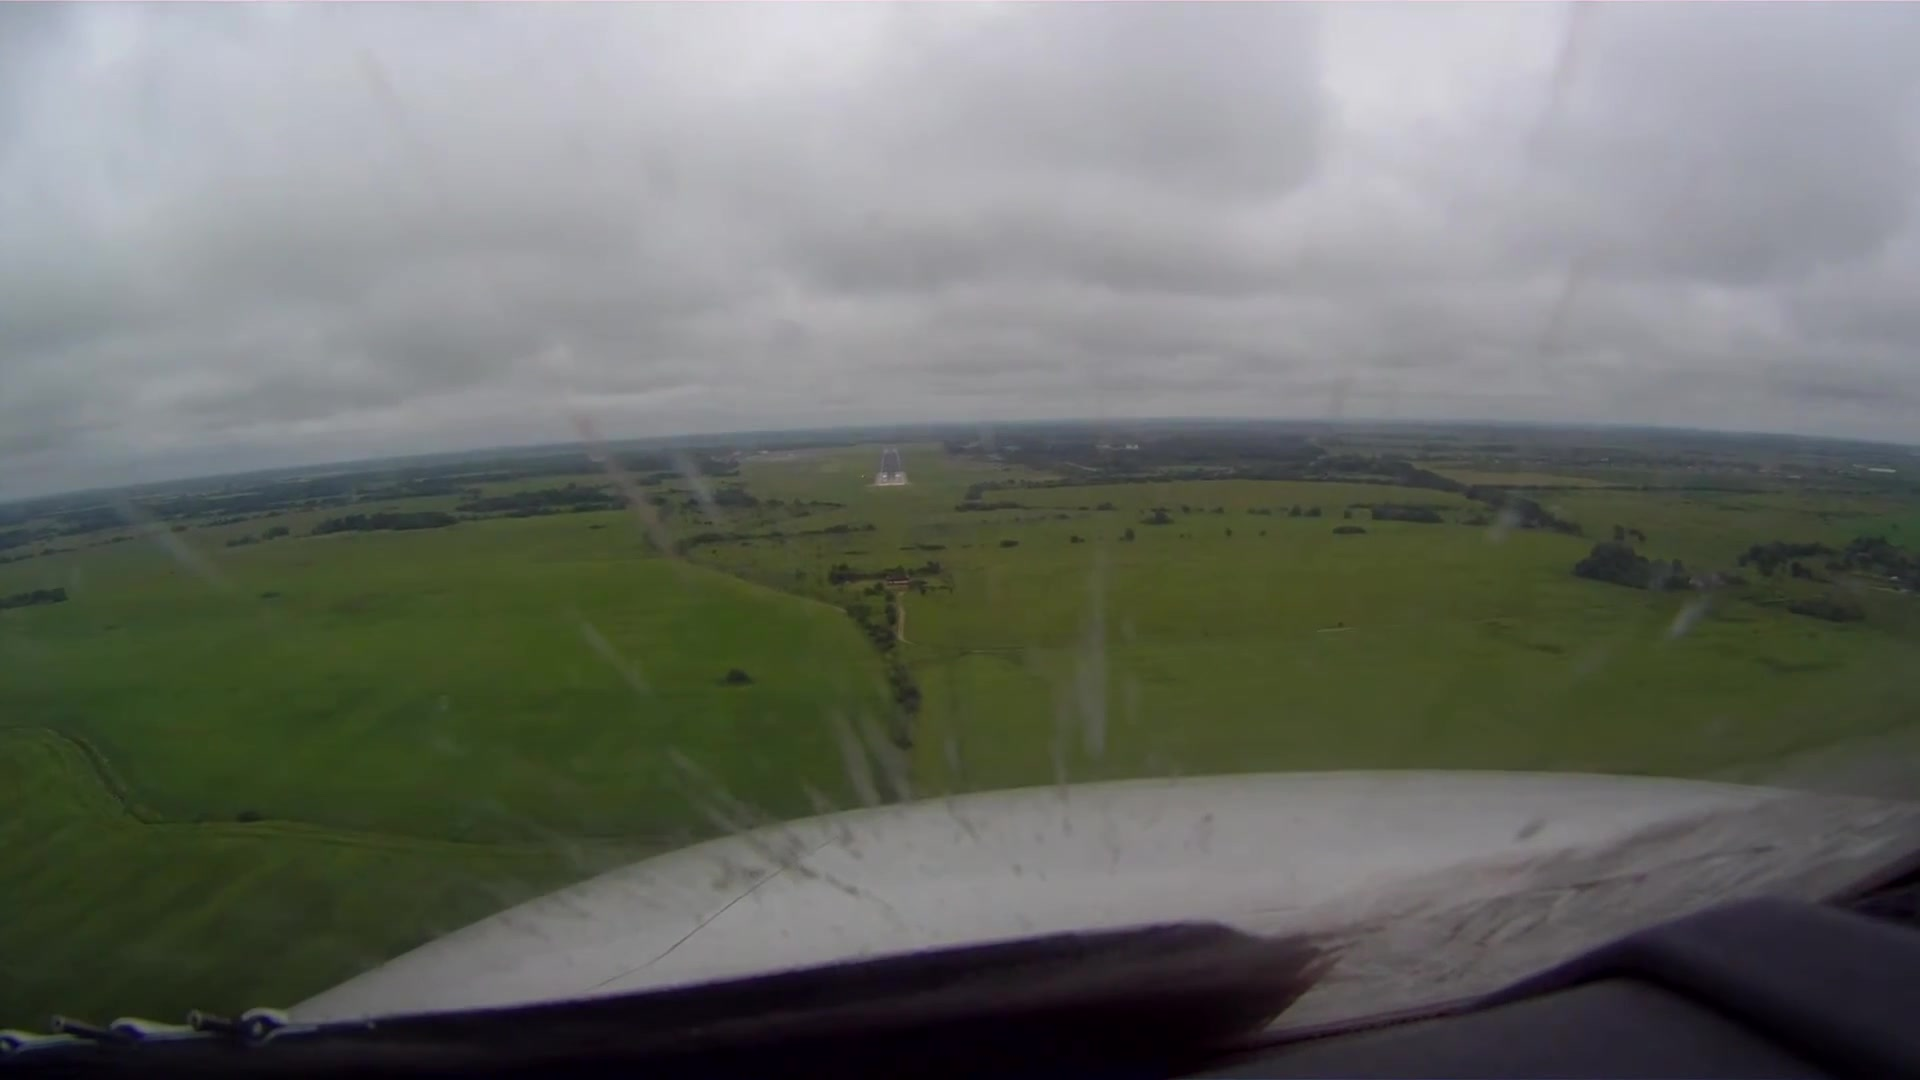runway: (877, 447, 906, 489)
